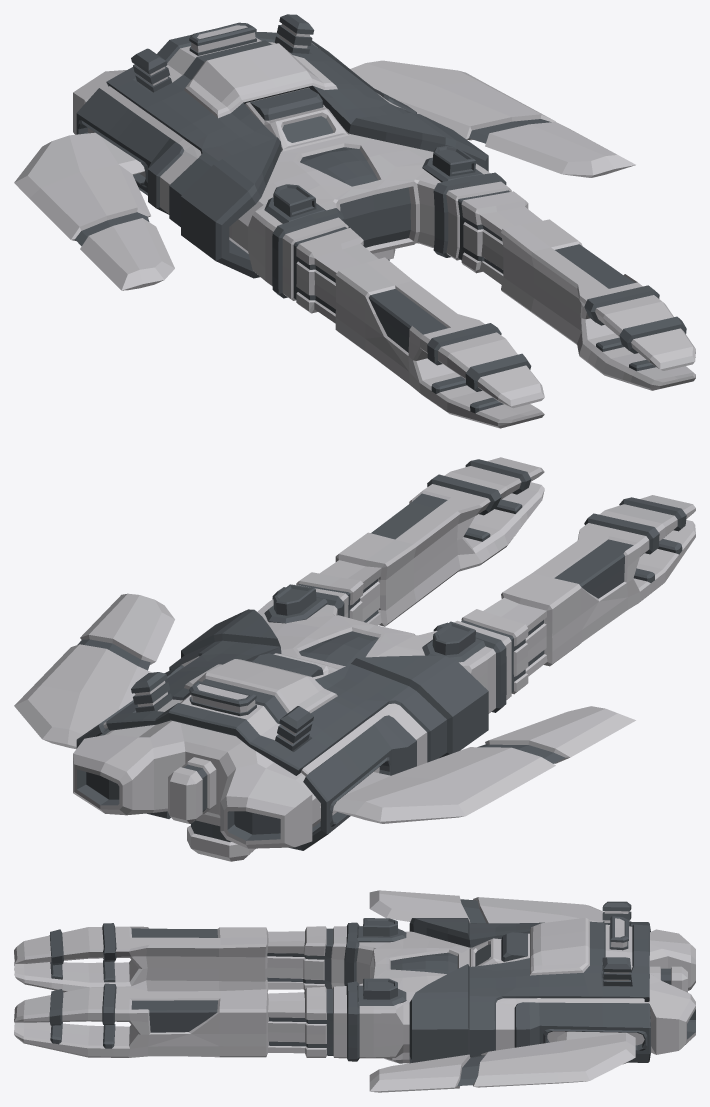
The model's file is Fighter_01_Neutral.fbx.
The picture shows the model from 3 angles, top to bottom: view 1: azimuth 30°, elevation 25°; view 2: azimuth 150°, elevation 25°; view 3: azimuth 270°, elevation 25°; orthographic projection. The views are drawn at different scales.
Visible parts, largest first — view 1: Fighter_01_Neutral; view 2: Fighter_01_Neutral; view 3: Fighter_01_Neutral.
Part boxes in pixels (<box>): Fighter_01_Neutral: <box>14,14,695,428</box>; Fighter_01_Neutral: <box>14,457,695,861</box>; Fighter_01_Neutral: <box>14,890,695,1092</box>.
Size of the model in its own units: 854 by 257 by 1235.
2 materials, 2 textured.
